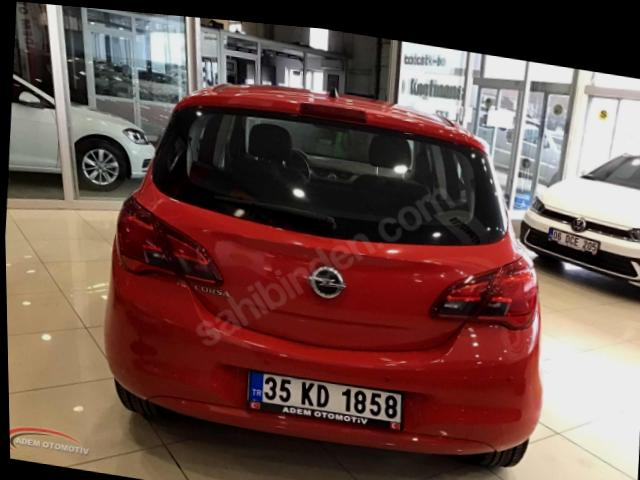plaka: (247, 370, 402, 423)
